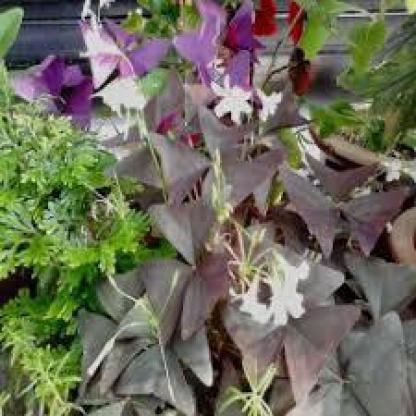Kupu-Kupu: (90, 273, 204, 411), (234, 265, 349, 382), (293, 157, 393, 253), (162, 119, 278, 199), (82, 12, 149, 86)
